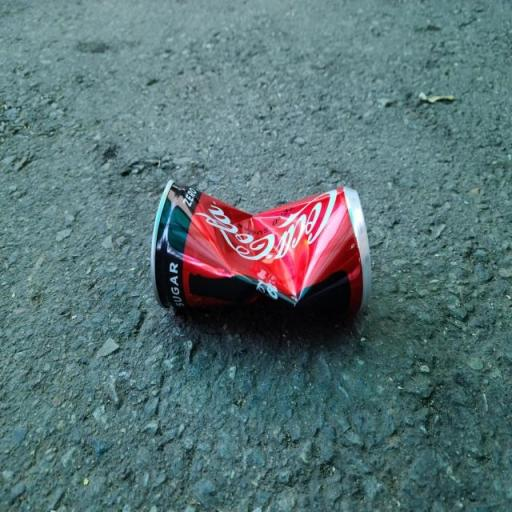metal: (72, 158, 394, 344)
